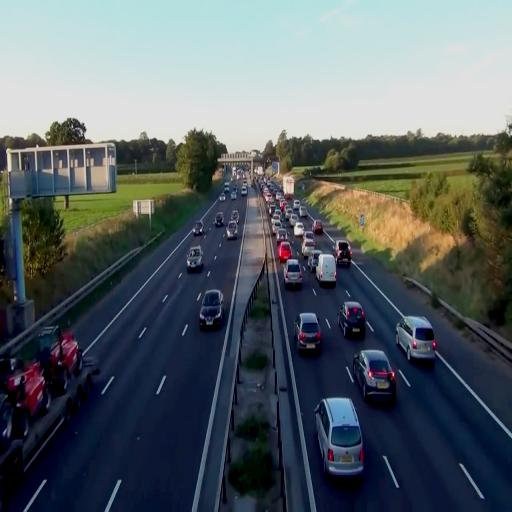vehicle: (0, 332, 97, 477), (0, 346, 97, 477), (314, 396, 364, 482), (352, 346, 396, 404), (396, 316, 436, 363), (407, 319, 437, 364), (296, 312, 323, 354), (198, 288, 224, 328), (338, 301, 366, 338), (316, 253, 337, 285), (284, 260, 304, 289), (186, 246, 204, 272), (336, 240, 352, 266), (225, 214, 239, 240), (193, 224, 203, 237), (195, 223, 204, 237), (216, 211, 224, 226)
